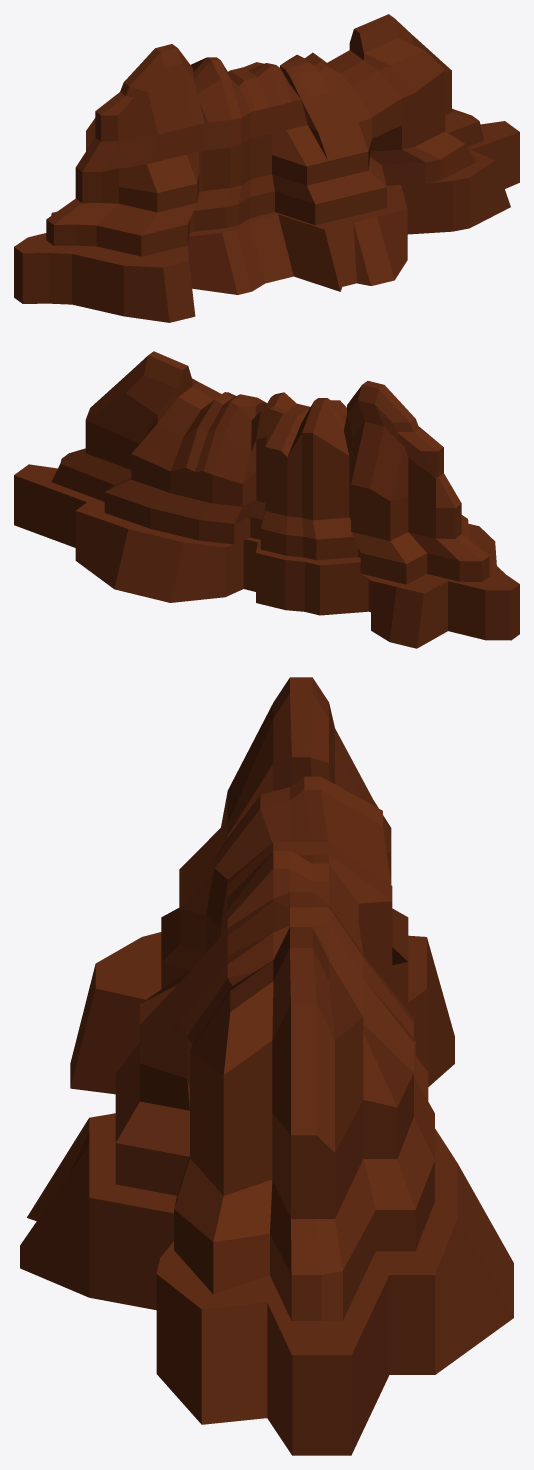
The model's file is Mountain_4.FBX.
3 views of the same model, one above another, from view 1: azimuth 30°, elevation 25°; view 2: azimuth 150°, elevation 25°; view 3: azimuth 270°, elevation 25° (orthographic). The views are drawn at different scales.
Parts seen in each view (by area): view 1: Plane004; view 2: Plane004; view 3: Plane004.
Boxes of the visible parts, bbox=[...] form: Plane004: bbox=[14, 14, 519, 322]; Plane004: bbox=[14, 351, 519, 648]; Plane004: bbox=[20, 677, 513, 1455].
Bounding box in the file's own units: 171 × 71.75 × 74.44.
